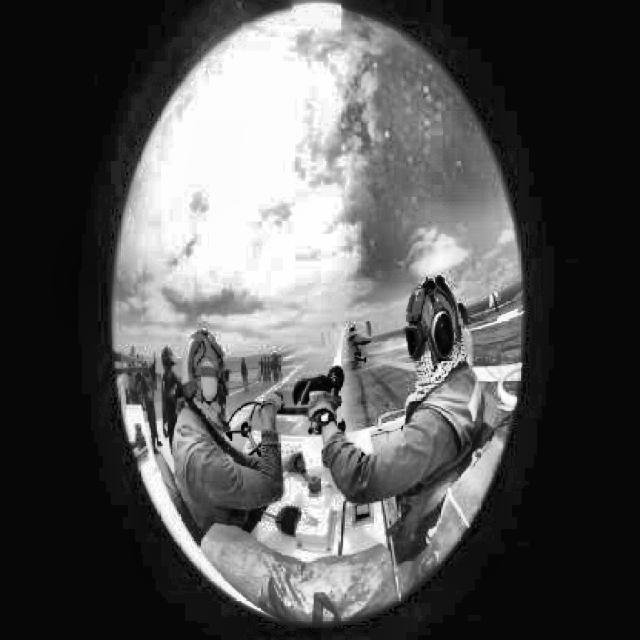F18: (320, 318, 372, 356)
